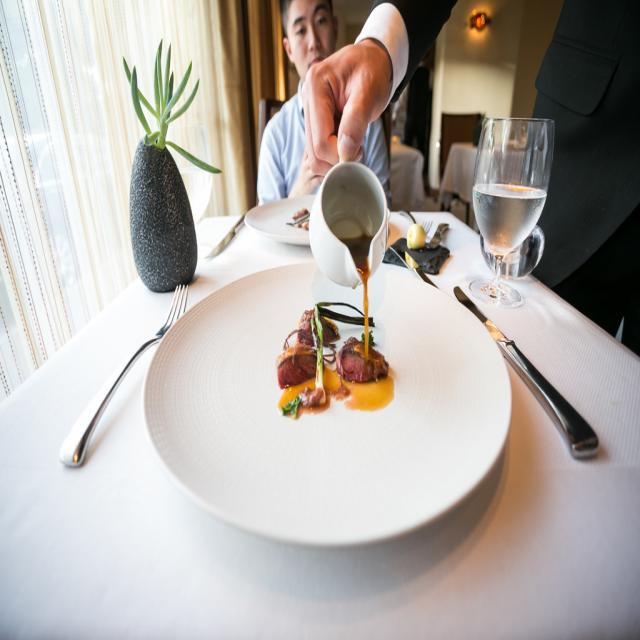non-organic waste: (138, 253, 509, 543)
